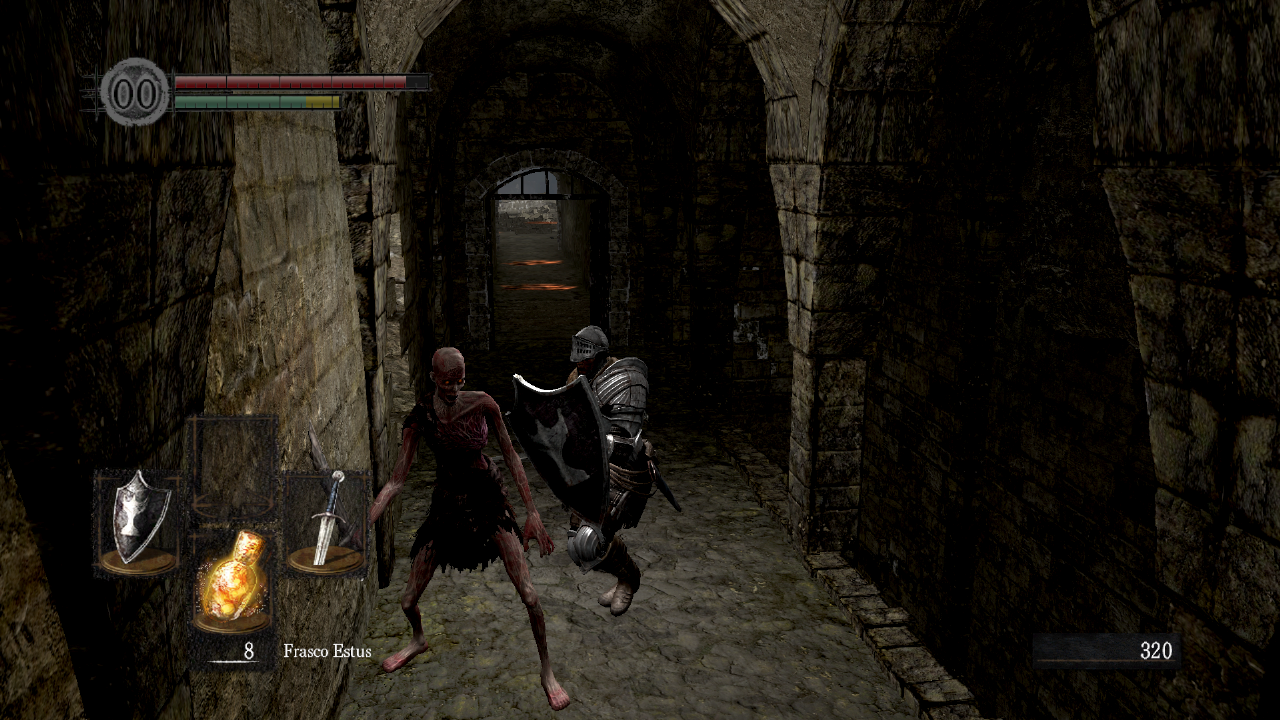hollow: (308, 347, 572, 711)
player: (504, 324, 682, 617)
